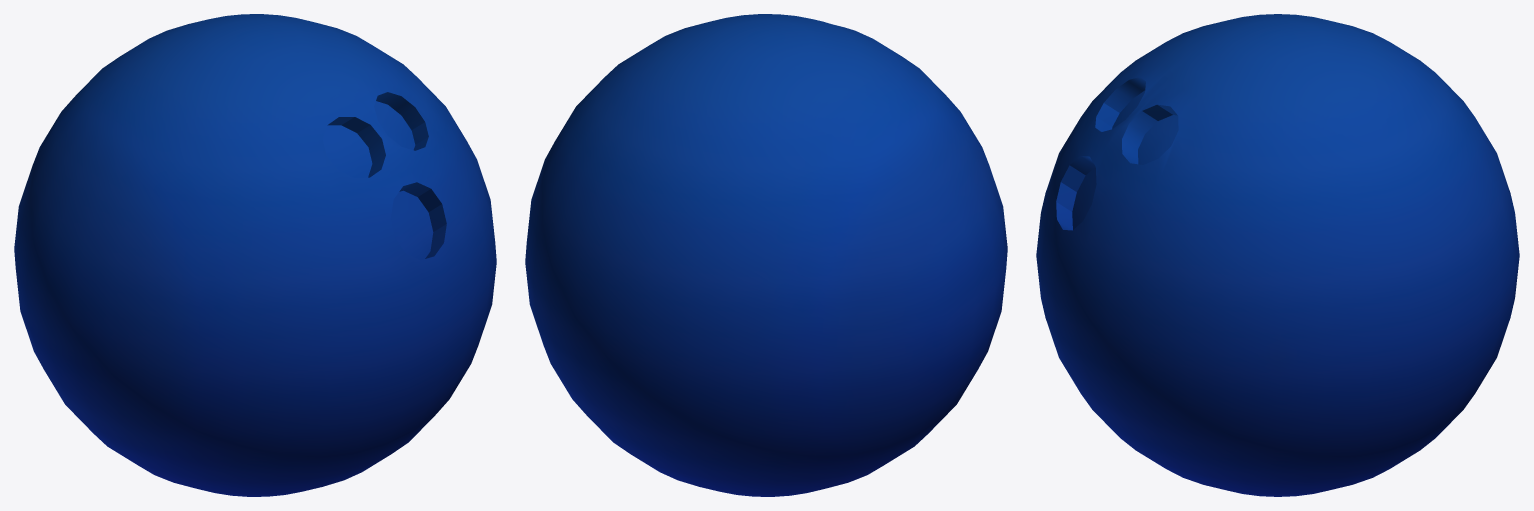
File: Ball.glb
3 views of the same model, side by side, from view 1: azimuth 30°, elevation 25°; view 2: azimuth 150°, elevation 25°; view 3: azimuth 270°, elevation 25° (orthographic).
Parts seen in each view (by area): view 1: Sphere; view 2: Sphere; view 3: Sphere.
Part boxes in pixels (bbox=[...]): Sphere: bbox=[14, 14, 496, 496]; Sphere: bbox=[525, 14, 1007, 496]; Sphere: bbox=[1036, 14, 1519, 496].
Size of the model in its own units: 2 by 2 by 2.
1 material, 1 textured.
